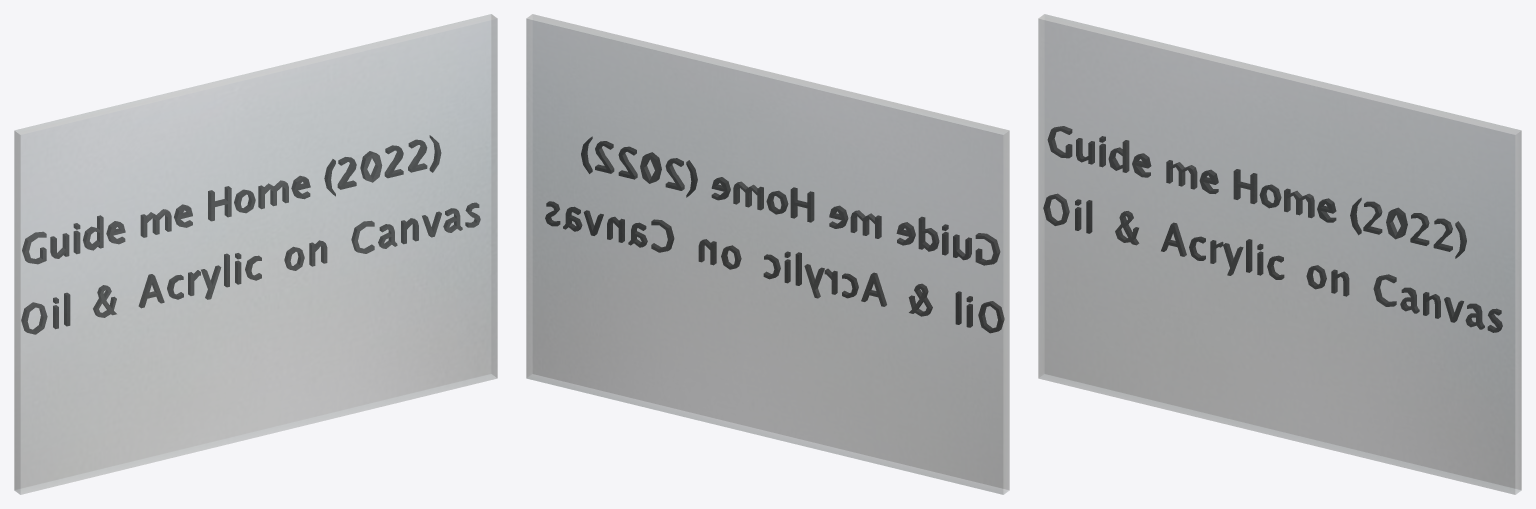
Rendered from guidemehomeglassdisplayed.fbx.
The picture shows the model from 3 angles, left to right: view 1: azimuth 30°, elevation 25°; view 2: azimuth 150°, elevation 25°; view 3: azimuth 330°, elevation 25°; orthographic projection.
Visible parts, largest first — view 1: glasspanel, typeMesh, typeMesh1; view 2: glasspanel, typeMesh, typeMesh1; view 3: glasspanel, typeMesh, typeMesh1.
Boxes of the visible parts, x1,y1,x2,y2 form: glasspanel: (14, 14, 497, 494); typeMesh: (22, 135, 441, 264); typeMesh1: (21, 202, 480, 334); glasspanel: (526, 14, 1009, 494); typeMesh: (581, 136, 1000, 265); typeMesh1: (545, 201, 1004, 333); glasspanel: (1038, 14, 1521, 494); typeMesh: (1047, 126, 1466, 258); typeMesh1: (1043, 193, 1502, 332).
Size of the model in its own units: 8.22 by 5.93 by 0.1877.
